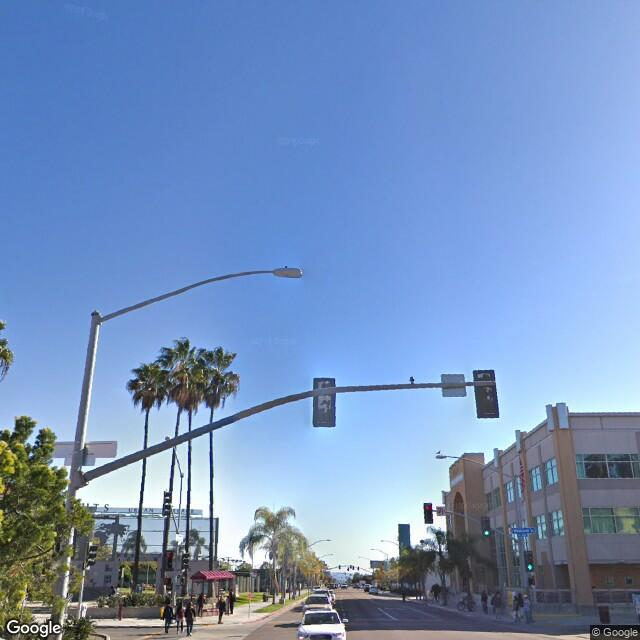light: (272, 265, 308, 277)
window: (578, 455, 640, 477), (580, 508, 615, 534), (548, 508, 567, 537), (548, 451, 559, 487)
